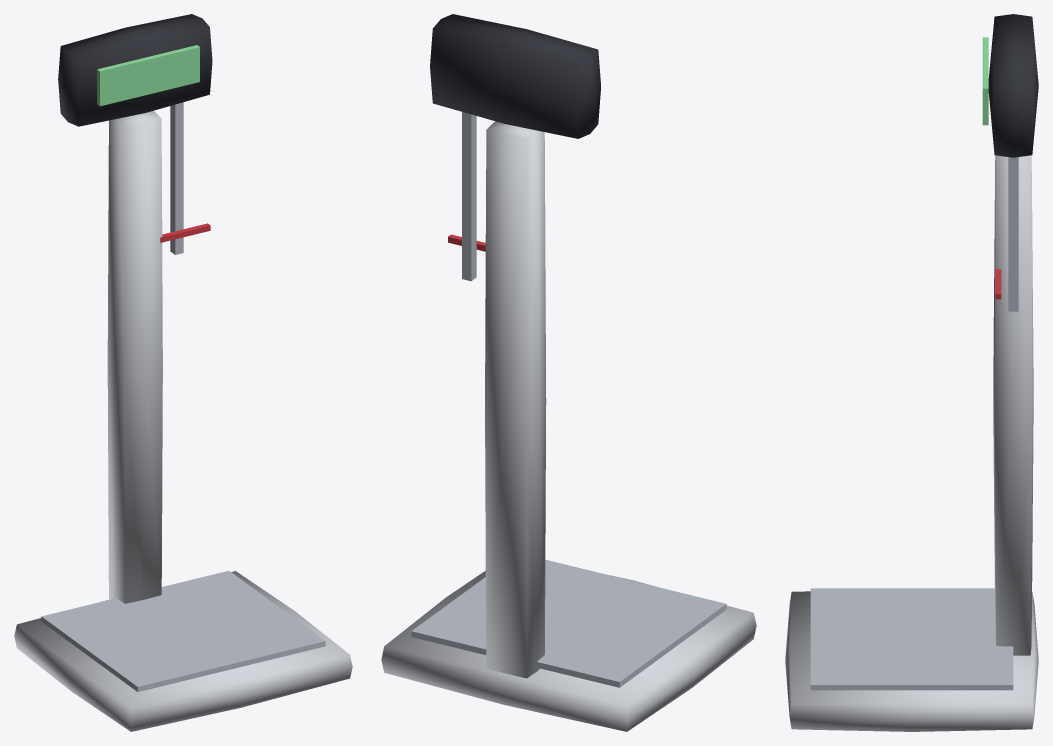
File: weighing_scale.glb
The picture shows the model from 3 angles, left to right: view 1: azimuth 30°, elevation 25°; view 2: azimuth 150°, elevation 25°; view 3: azimuth 270°, elevation 25°; orthographic projection. The views are drawn at different scales.
Visible parts, largest first — view 1: root; view 2: root; view 3: root.
Part boxes in pixels (x1=…): root: x1=14, y1=14, x2=352, y2=731; root: x1=381, y1=14, x2=756, y2=731; root: x1=785, y1=14, x2=1038, y2=731.
Bounding box in the file's own units: 0.55 × 1.38 × 0.5.
